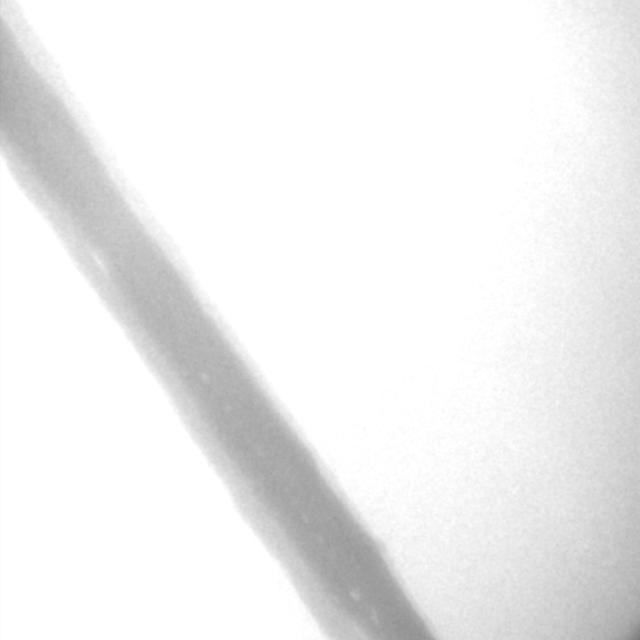air hole: (350, 589, 361, 602)
